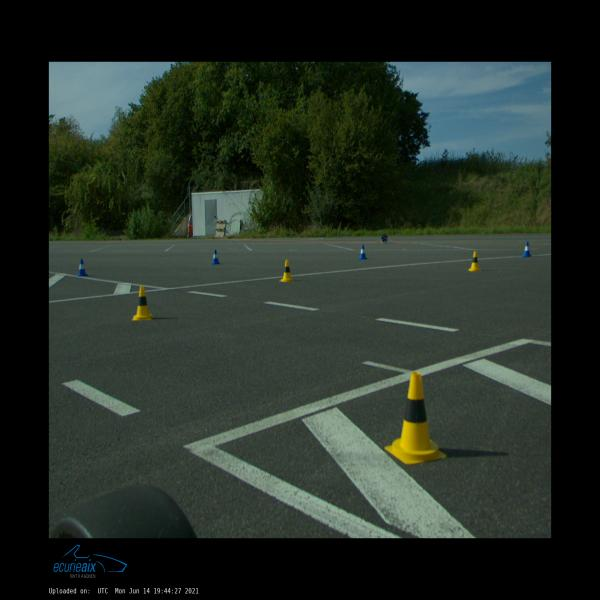blue_cone: (77, 259, 88, 276), (522, 242, 532, 257), (359, 245, 367, 260), (212, 250, 220, 264)
yellow_cone: (385, 372, 446, 464), (132, 286, 154, 320), (279, 260, 294, 282), (469, 251, 481, 271)
